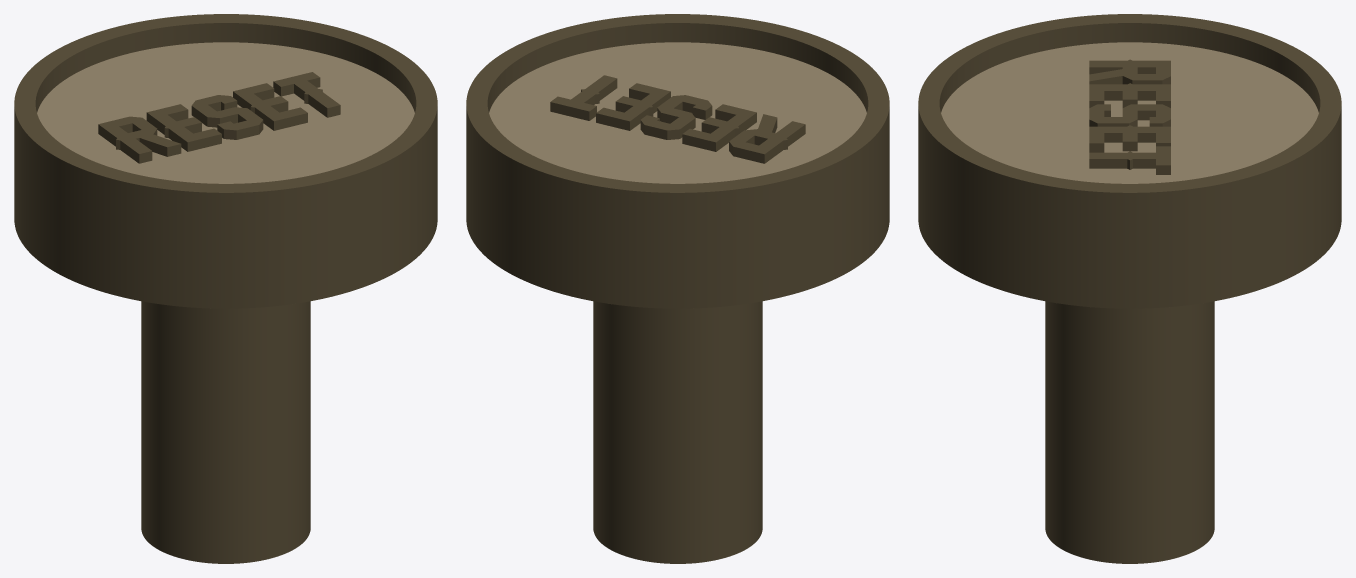
File: ResetButton.fbx
3 renders of one model, left to right at view 1: azimuth 30°, elevation 25°; view 2: azimuth 150°, elevation 25°; view 3: azimuth 270°, elevation 25°, orthographic.
Visible parts, largest first — view 1: Cylinder, Cylinder.002, Circle, Text.003; view 2: Cylinder, Cylinder.002, Circle, Text.003; view 3: Cylinder, Cylinder.002, Circle, Text.003.
Boxes of the visible parts, <box> form: Cylinder: <box>14,14,437,308</box>; Cylinder.002: <box>141,301,310,563</box>; Circle: <box>37,42,414,183</box>; Text.003: <box>98,72,340,163</box>; Cylinder: <box>466,14,889,308</box>; Cylinder.002: <box>593,301,762,563</box>; Circle: <box>489,42,866,183</box>; Text.003: <box>550,75,805,163</box>; Cylinder: <box>918,14,1341,308</box>; Cylinder.002: <box>1045,301,1214,563</box>; Circle: <box>941,42,1318,183</box>; Text.003: <box>1089,59,1170,174</box>.
Bounding box in the file's own units: 199 × 220 × 199.
